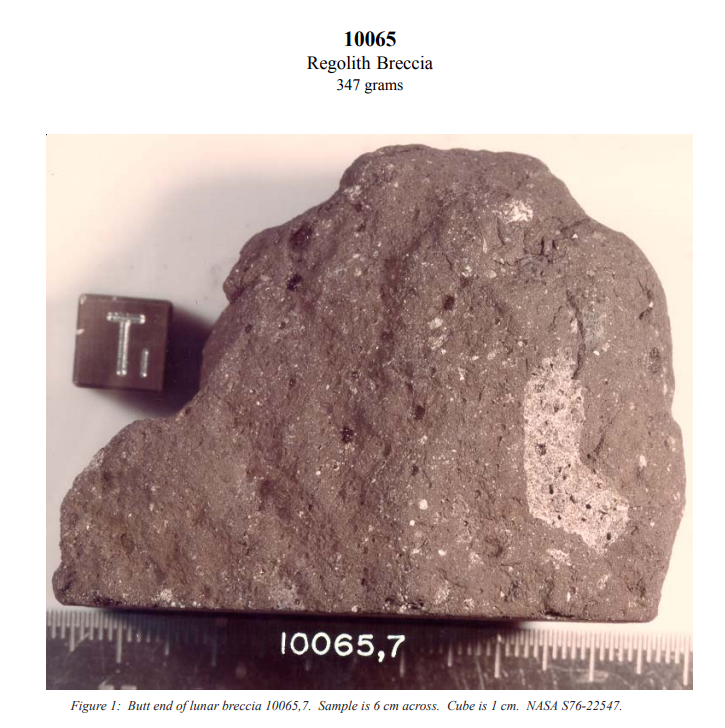Breccia: (47, 132, 680, 624), (201, 139, 690, 620)
